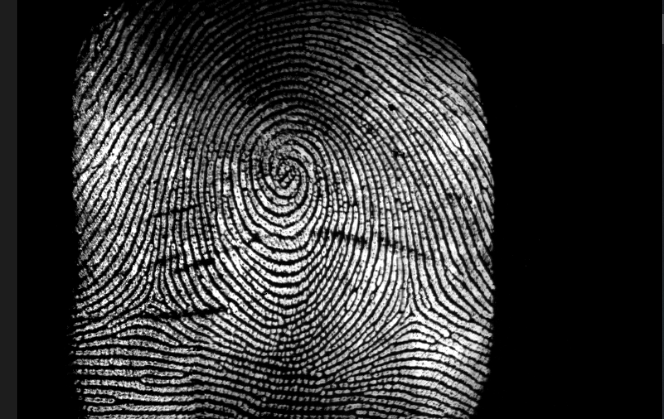deltas: (118, 267, 186, 328), (387, 283, 443, 345)
nucleo: (248, 144, 313, 203)
